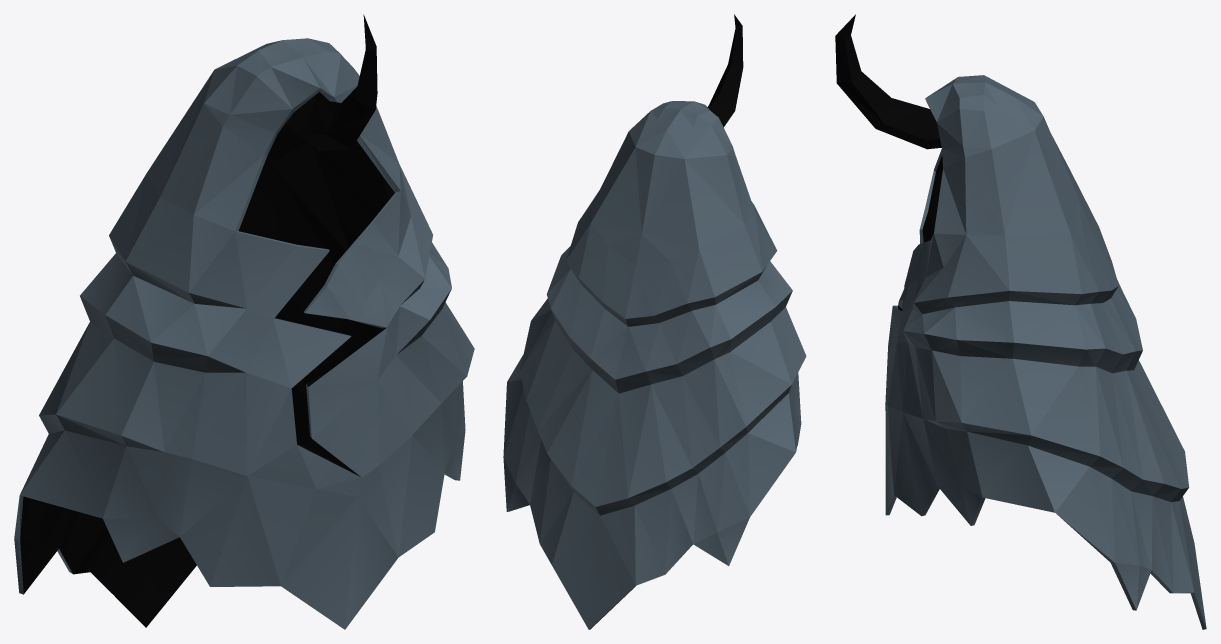
The model's file is GhostBody2.dae.
3 renders of one model, left to right at view 1: azimuth 30°, elevation 25°; view 2: azimuth 150°, elevation 25°; view 3: azimuth 270°, elevation 25°, orthographic. The views are drawn at different scales.
Visible parts, largest first — view 1: Empty_Mesh; view 2: Empty_Mesh; view 3: Empty_Mesh.
Boxes of the visible parts, <box> form: Empty_Mesh: <box>14,14,474,629</box>; Empty_Mesh: <box>503,14,806,629</box>; Empty_Mesh: <box>835,14,1206,629</box>.
Size of the model in its own units: 5.48 by 5.05 by 9.24.
